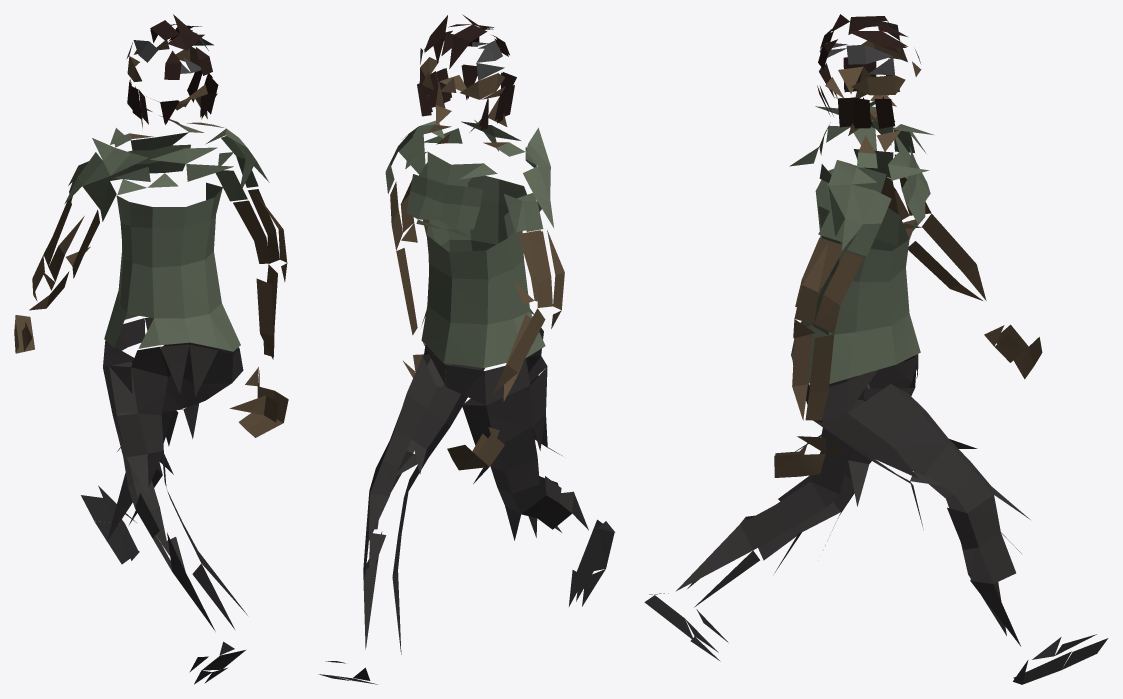
File: personfar_7_w3.fbx
3 views of the same model, side by side, from view 1: azimuth 30°, elevation 25°; view 2: azimuth 150°, elevation 25°; view 3: azimuth 270°, elevation 25° (orthographic). The views are drawn at different scales.
Visible parts, largest first — view 1: Female; view 2: Female; view 3: Female.
Boxes of the visible parts, left/top/right/bottom form: Female: left=14, top=14, right=288, bottom=684; Female: left=319, top=14, right=615, bottom=684; Female: left=644, top=14, right=1108, bottom=684.
Bounding box in the file's own units: 0.3292 × 0.9819 × 0.6202.
